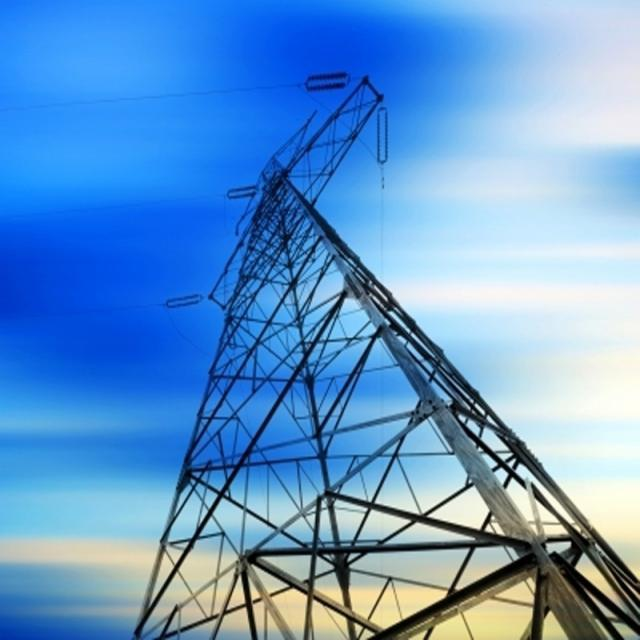non-critical vegetation: (124, 60, 636, 634)
